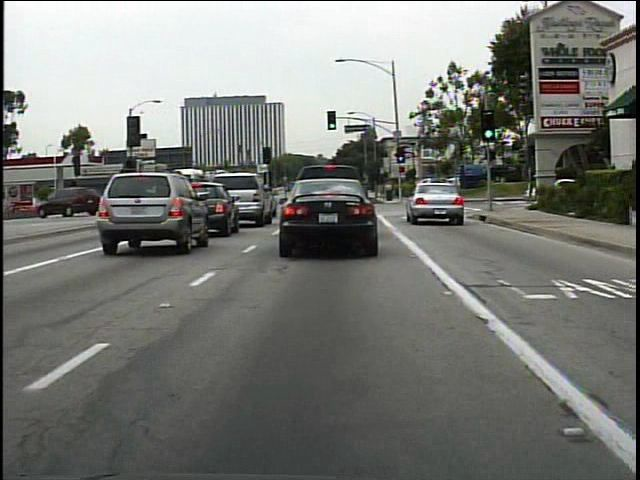person: (383, 179, 396, 204)
